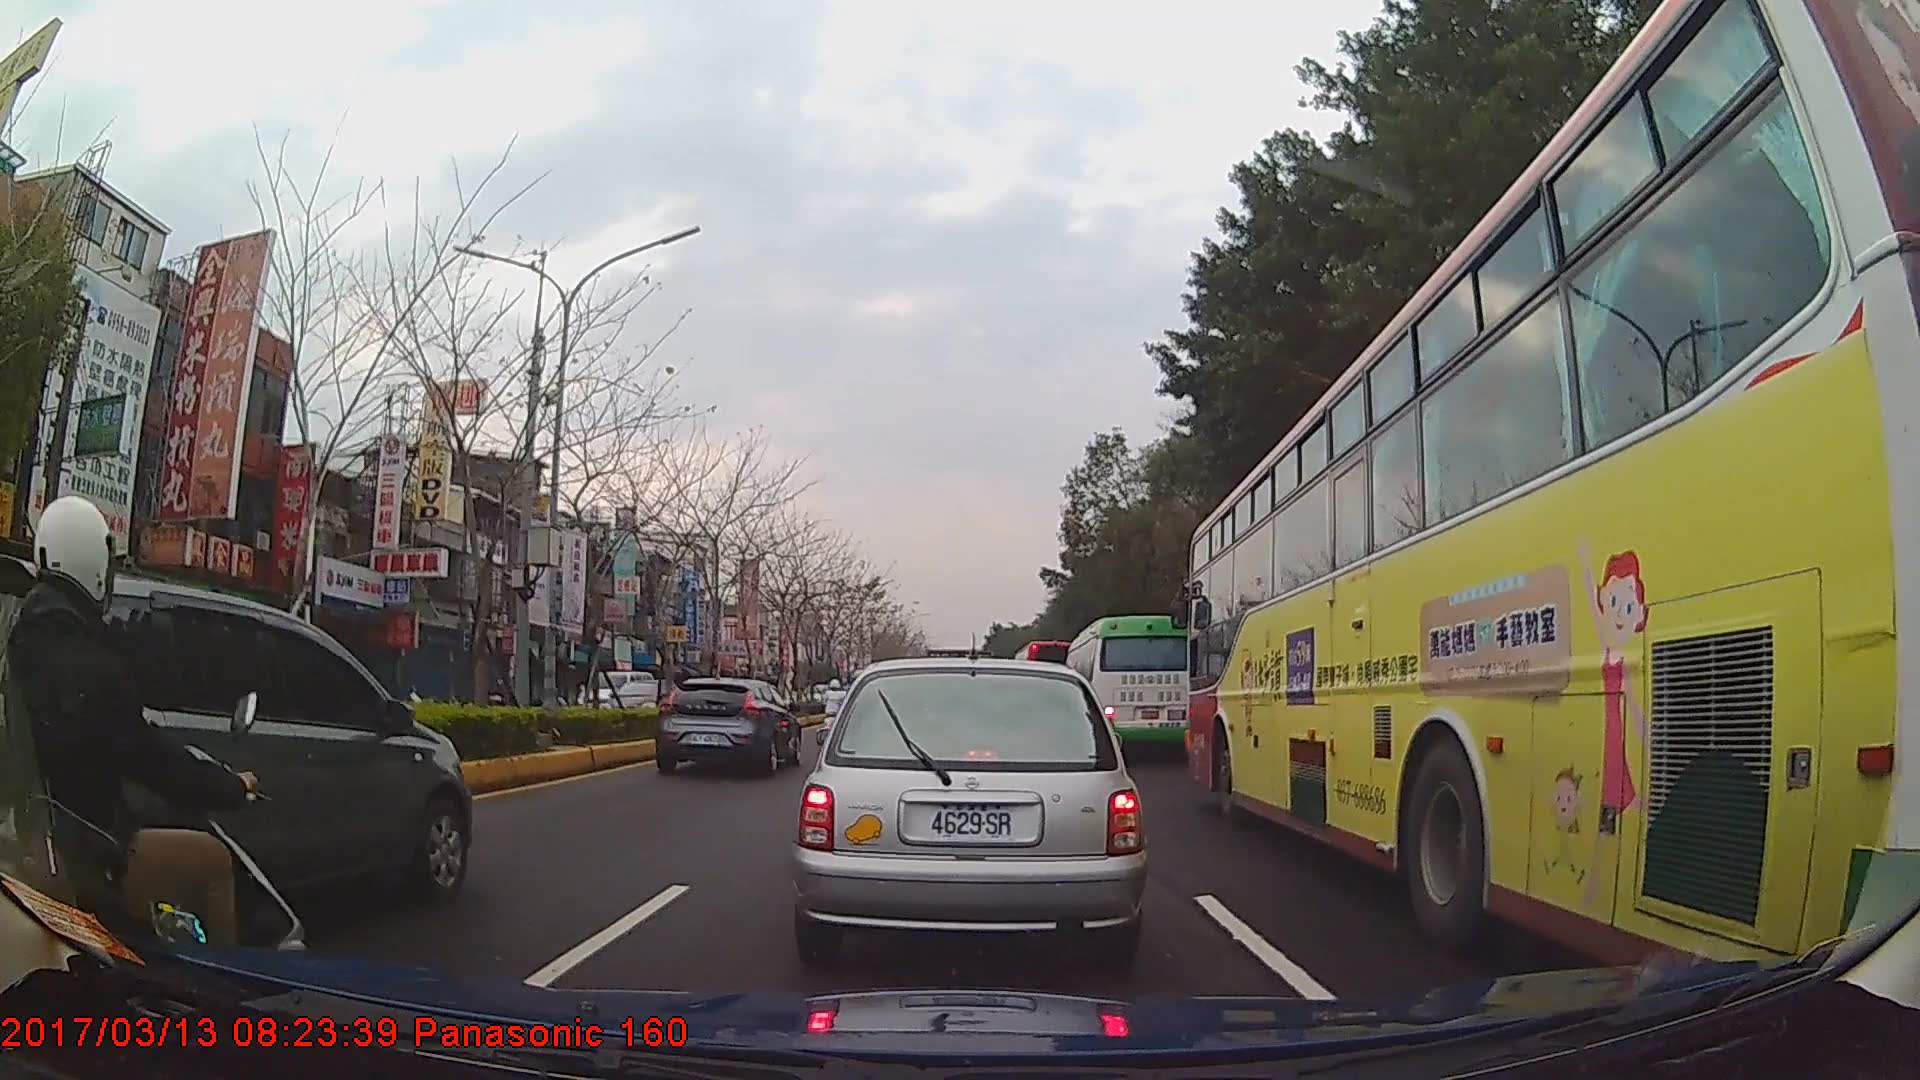rider: (1, 500, 308, 1047), (821, 677, 851, 744)
vehicle: (1186, 0, 1920, 988), (5, 553, 472, 931), (796, 652, 1146, 971), (1061, 613, 1197, 761), (650, 672, 801, 777)
